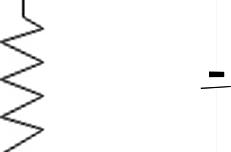resistor: (0, 12, 49, 146)
